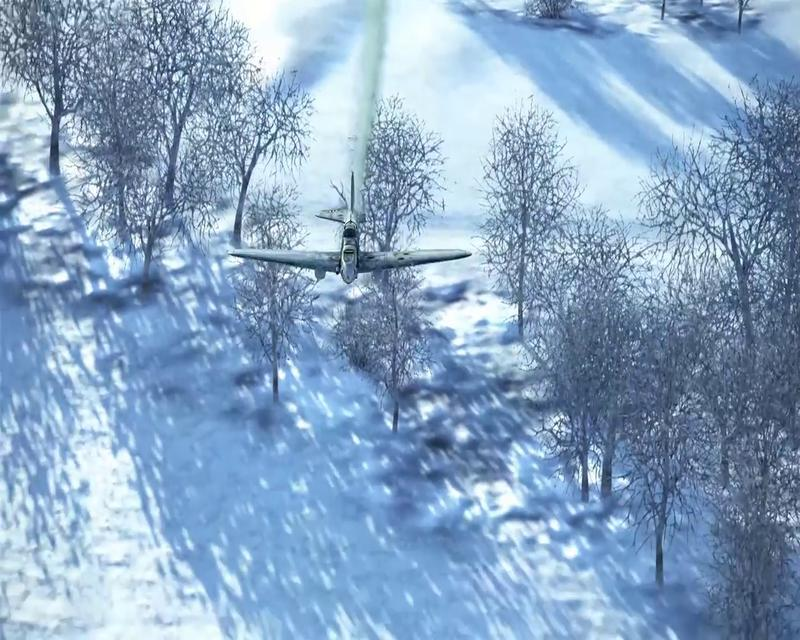UAV: (228, 172, 472, 284)
